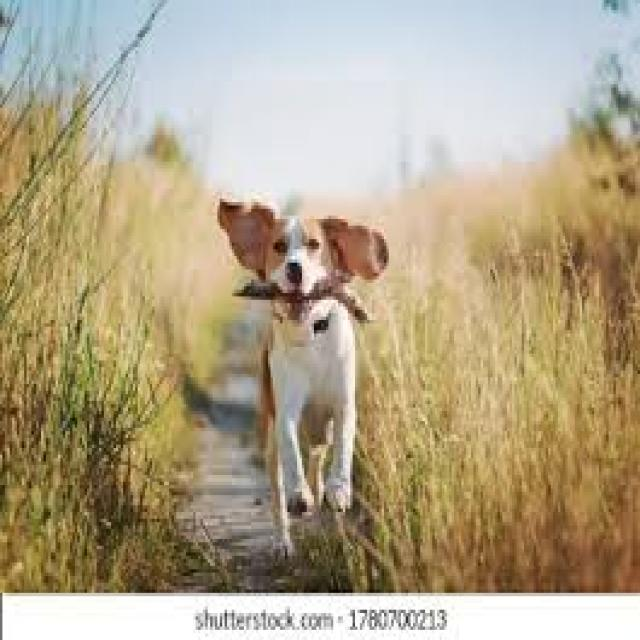Dog: (212, 190, 394, 566)
